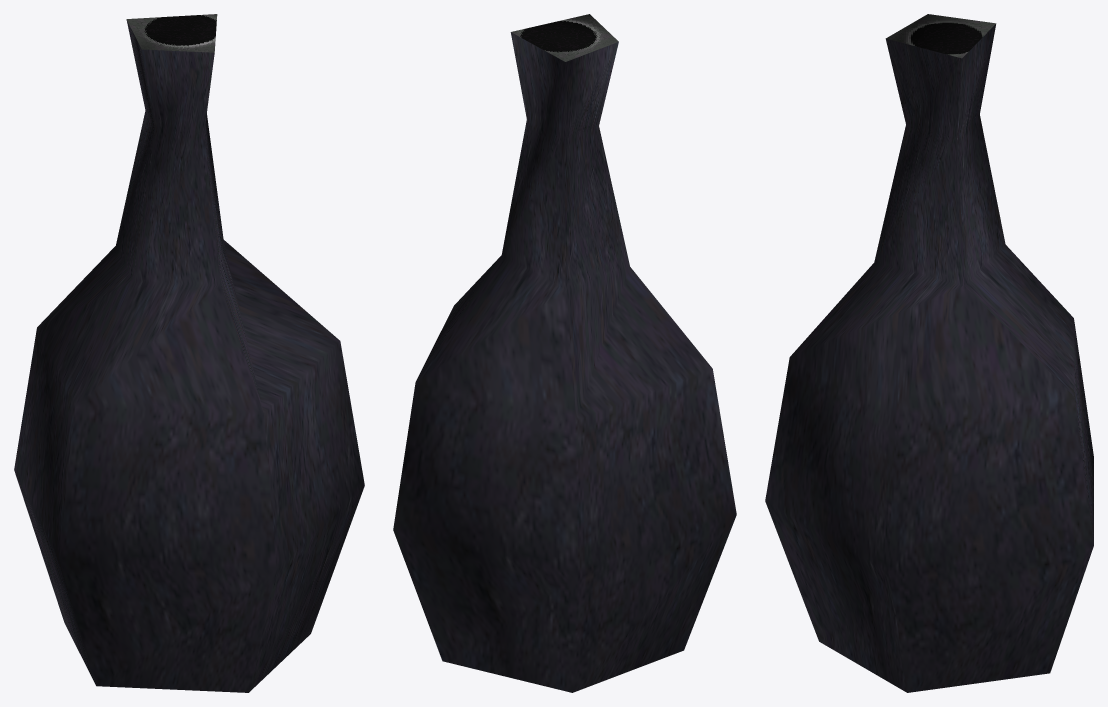
The model's file is edb_con_tato_bottle_empty_s01_l2.fbx.
The picture shows the model from 3 angles, left to right: view 1: azimuth 30°, elevation 25°; view 2: azimuth 150°, elevation 25°; view 3: azimuth 270°, elevation 25°; orthographic projection. The views are drawn at different scales.
Visible parts, largest first — view 1: mesh_node; view 2: mesh_node; view 3: mesh_node.
Part boxes in pixels (x1,y1,x2,y2): mesh_node: (14,14,364,692); mesh_node: (393,14,736,692); mesh_node: (765,14,1093,692).
Size of the model in its own units: 0.2509 by 0.4831 by 0.2386.
